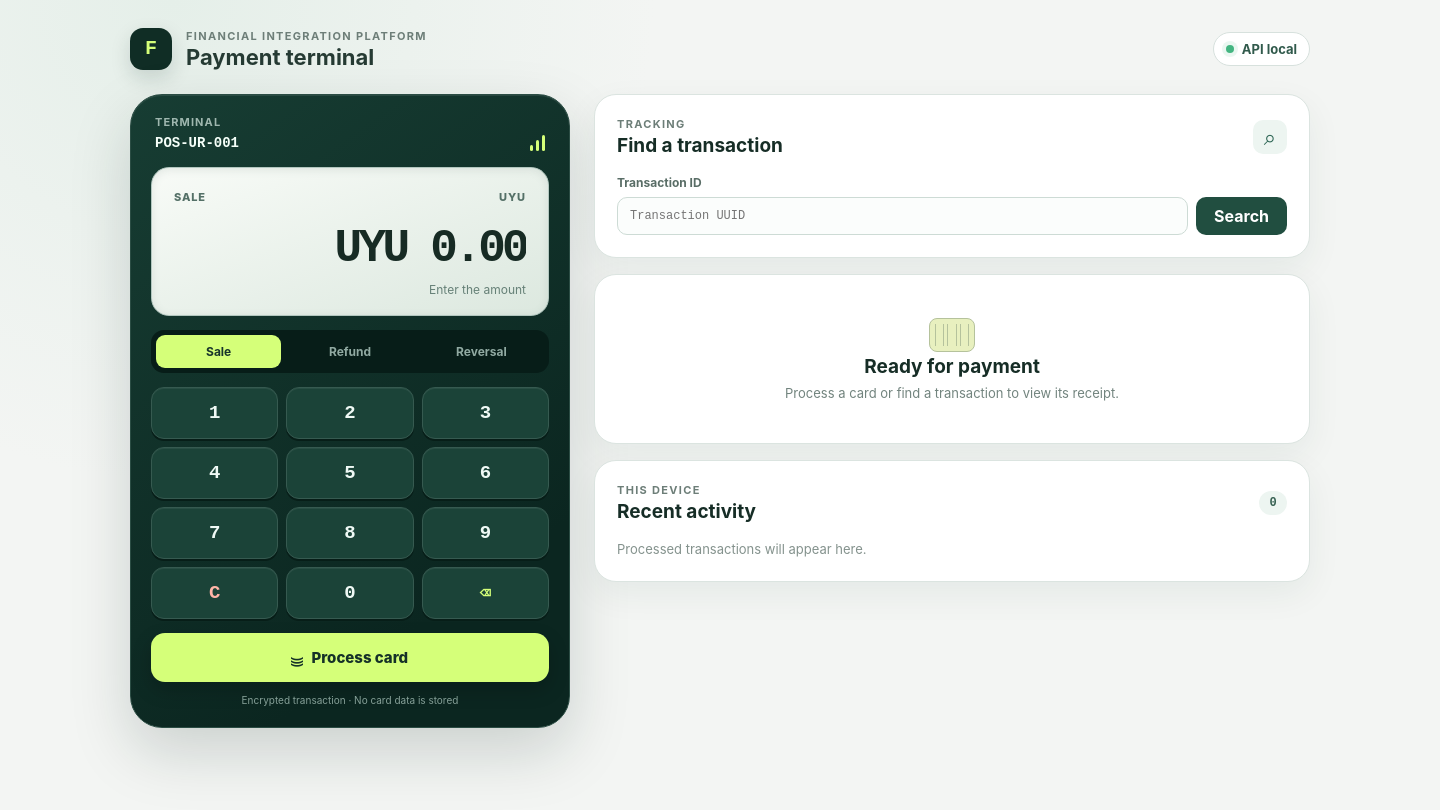
Test case: POS terminal › enters an amount using the payment keypad
This screenshot has width=1440, height=810.
Click the button "5". click: point(350, 473)
box: [286,447,414,499]
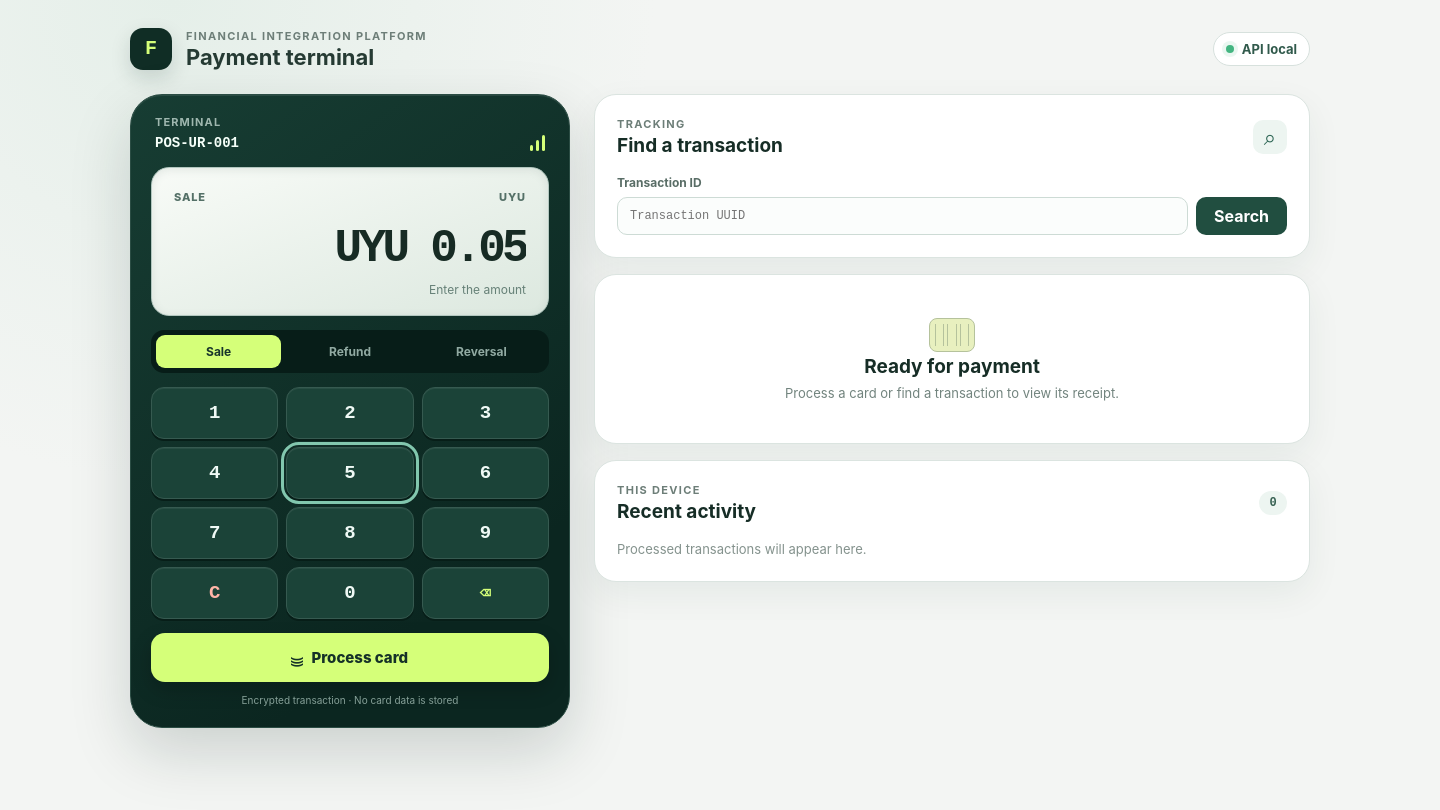
Click the button "0". click: point(350, 593)
box: [286,567,414,619]
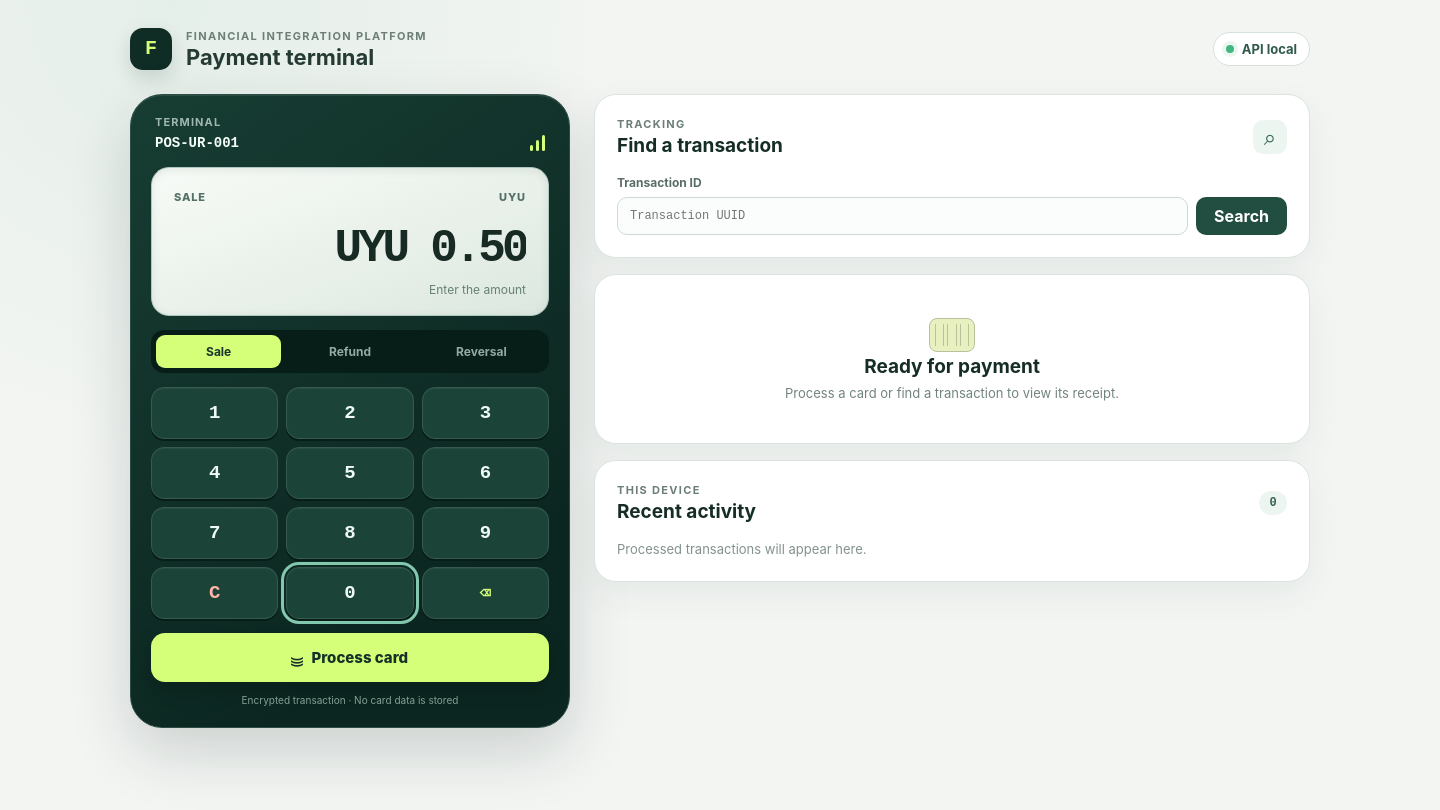
Click the button "0". click: point(350, 593)
box: [286,567,414,619]
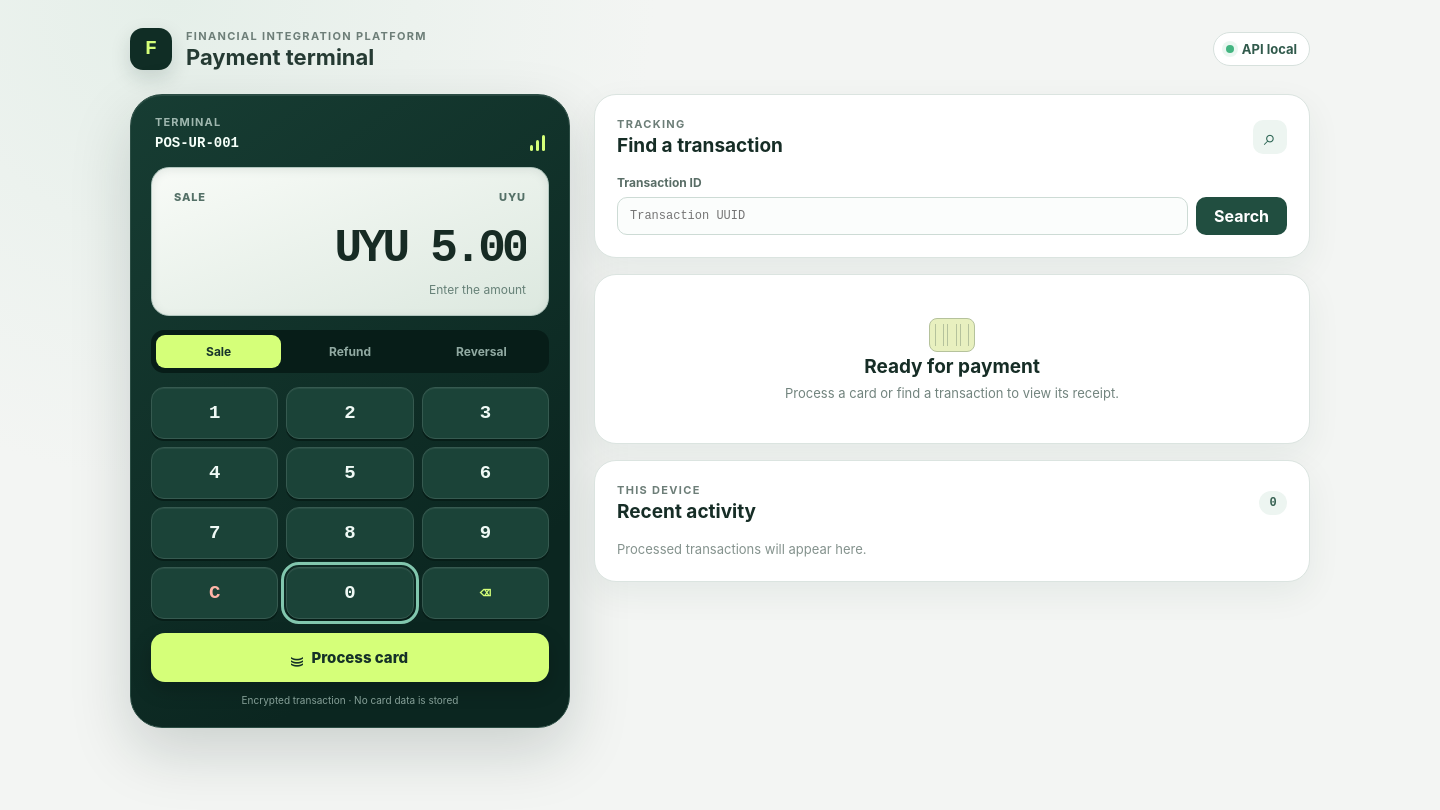
Expected: the text "UYU 5.00" is shown, [335,223,526,275]
